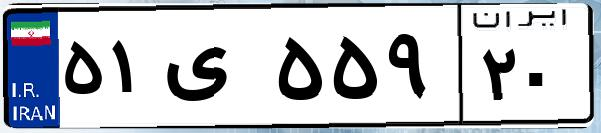0: (525, 38, 570, 115)
1: (110, 28, 158, 98)
2: (475, 38, 525, 113)
5: (270, 28, 330, 110), (330, 28, 385, 110), (57, 26, 110, 100)
9: (385, 28, 445, 110)
ی: (158, 20, 270, 120)
